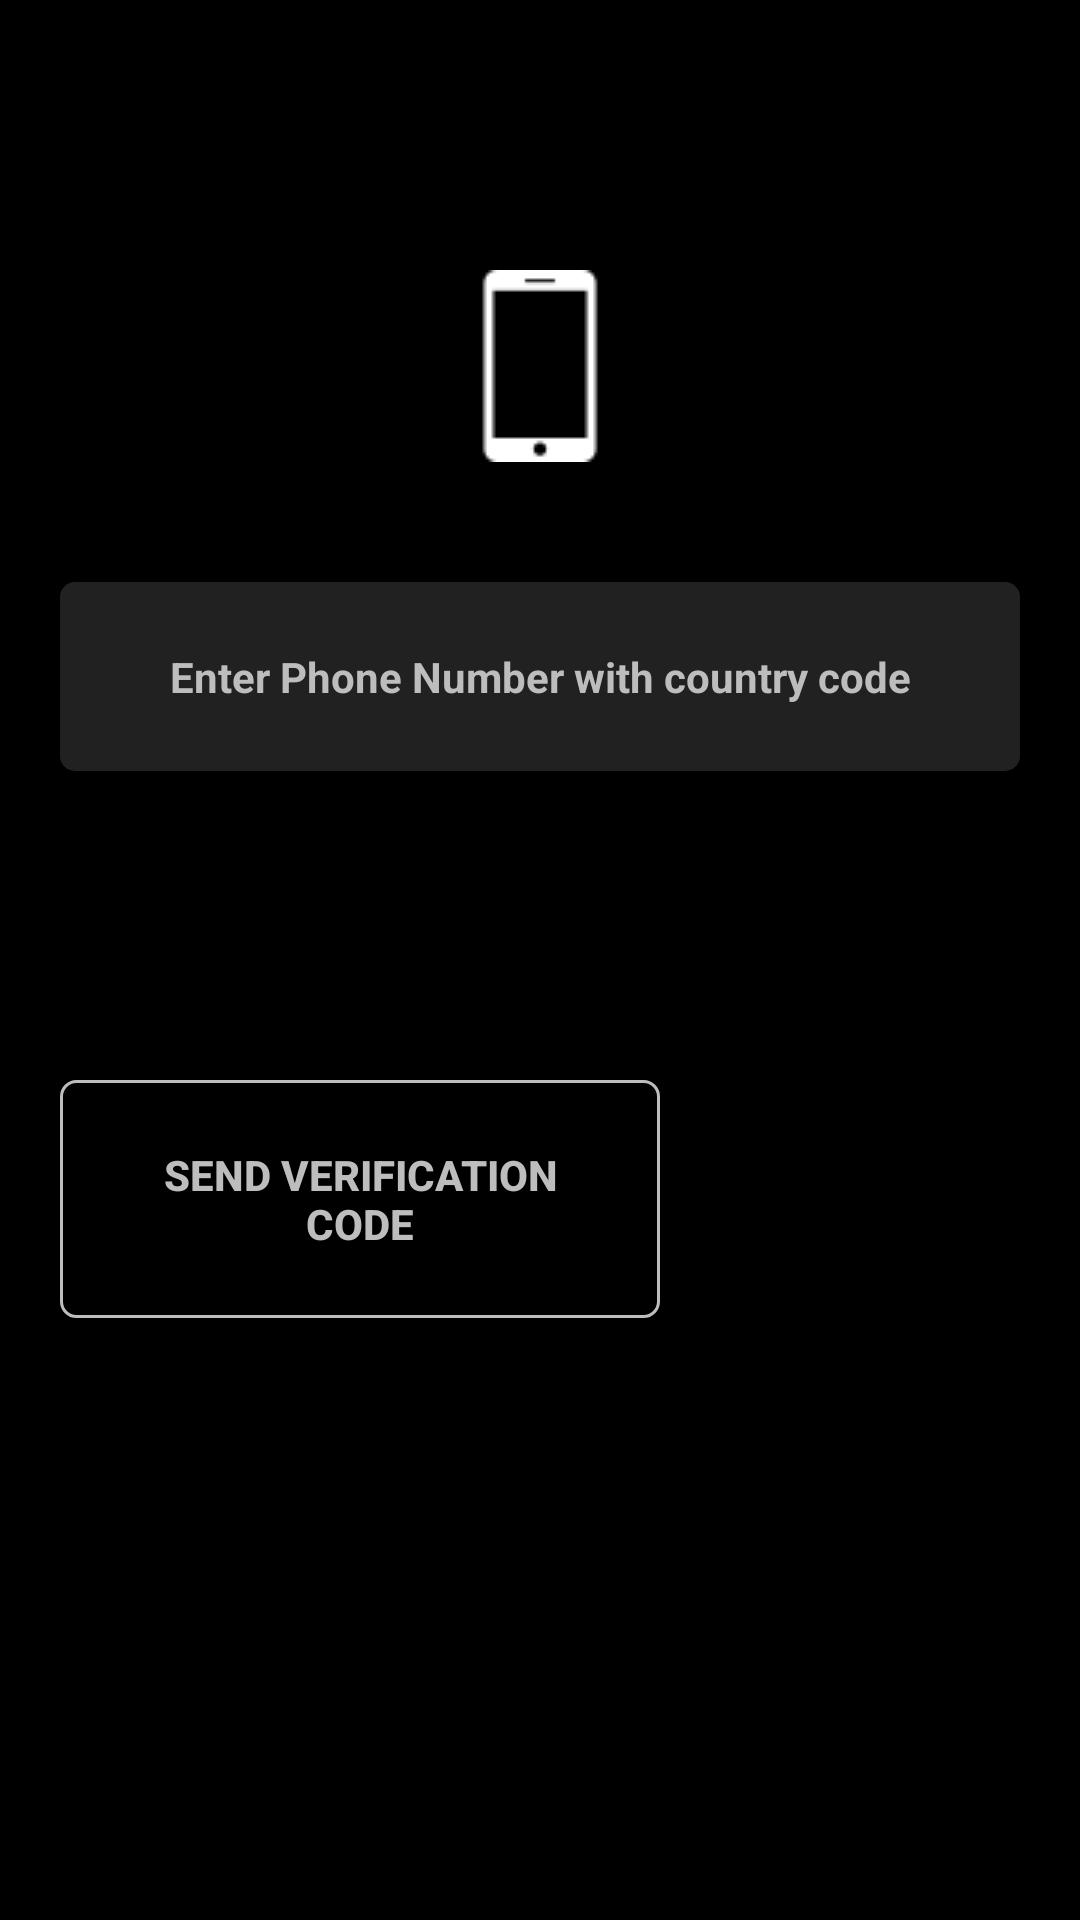

Icons on this 1080*1920 Android screen, each with its box as (x1=x1, y1=y1, x2=x2, y2=y2):
smartphone: (x1=482, y1=270, x2=598, y2=462)
